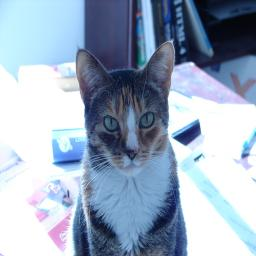catnose: (124, 148, 140, 161)
